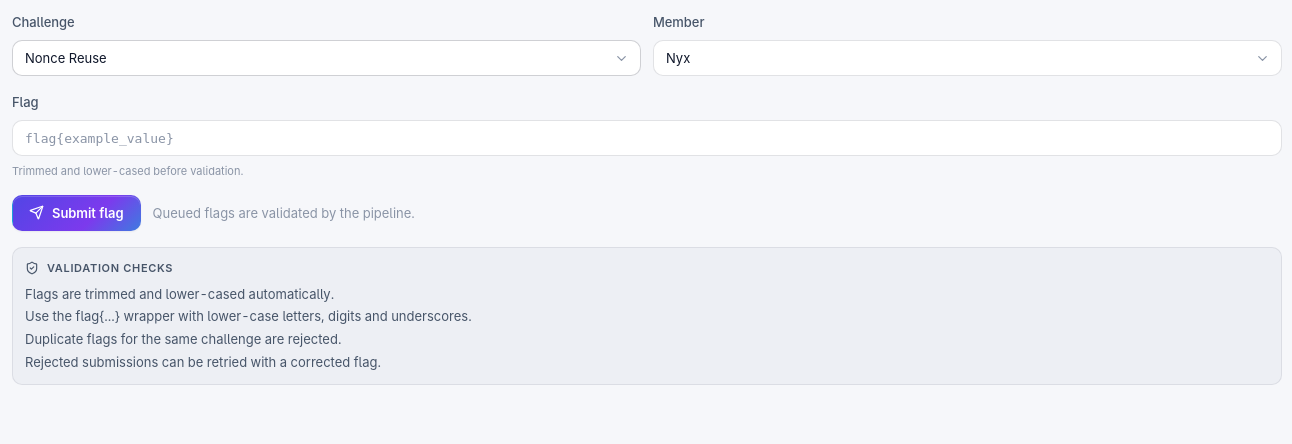
SubmissionForm › shows an accessible hint and does not submit a malformed flag
Type "garbage" into the field labelled "Flag" at x=647, y=138, box left=12, top=120, right=1282, bottom=156
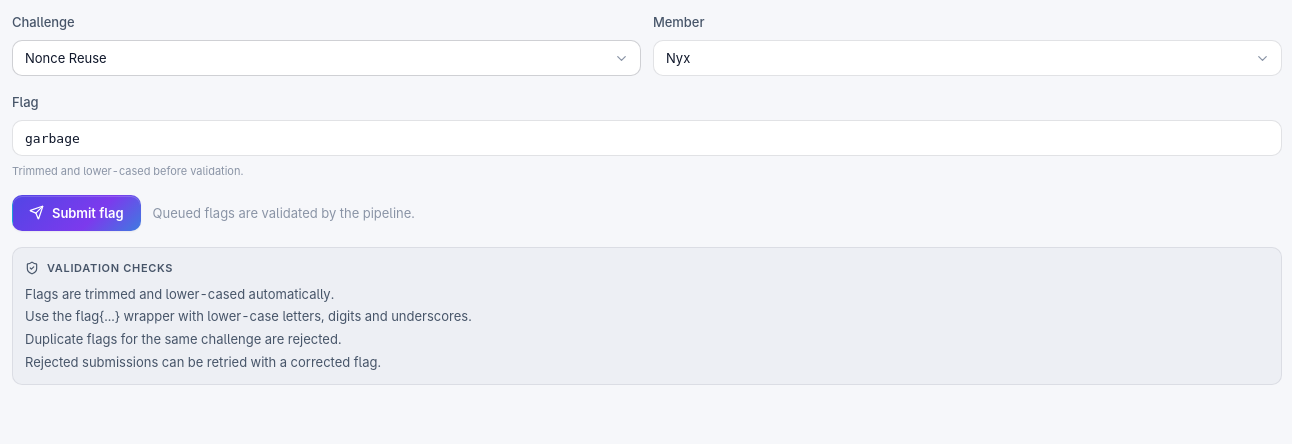
Click the button "Submit flag" at x=76, y=213, box left=12, top=195, right=140, bottom=231
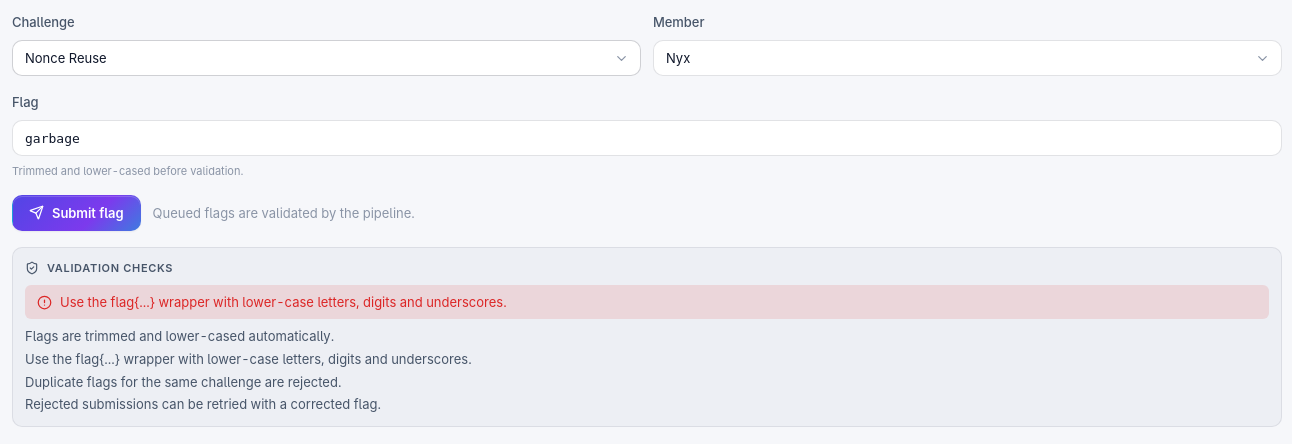
Result: the message shows "flag{...}" at left=60, top=294, right=507, bottom=310
